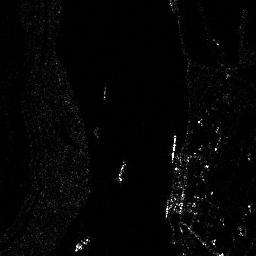ship: (116, 160, 127, 183), (75, 237, 92, 251)
